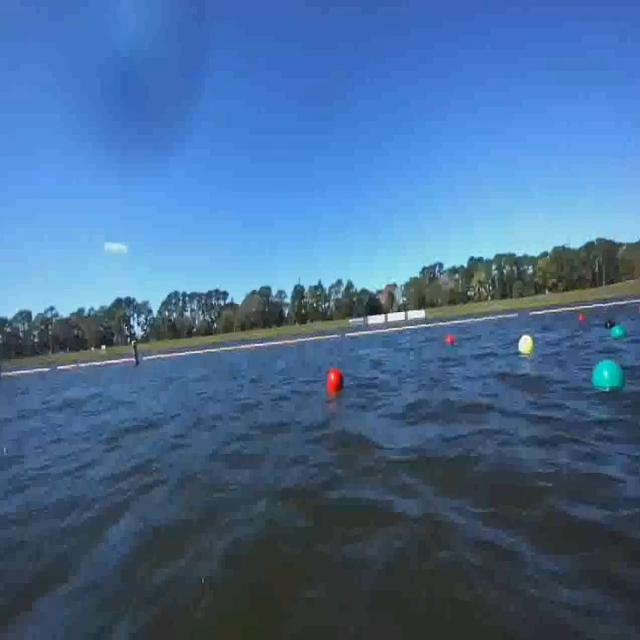green-buoy: (591, 360, 626, 393), (612, 326, 627, 338)
red-buoy: (328, 368, 344, 392), (445, 331, 455, 346), (579, 312, 584, 322)
yellow-buoy: (519, 335, 535, 356)
